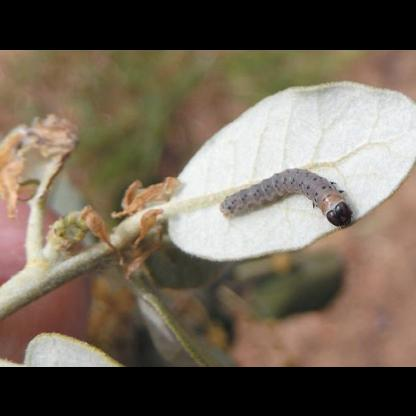oruga: (206, 162, 352, 240)
